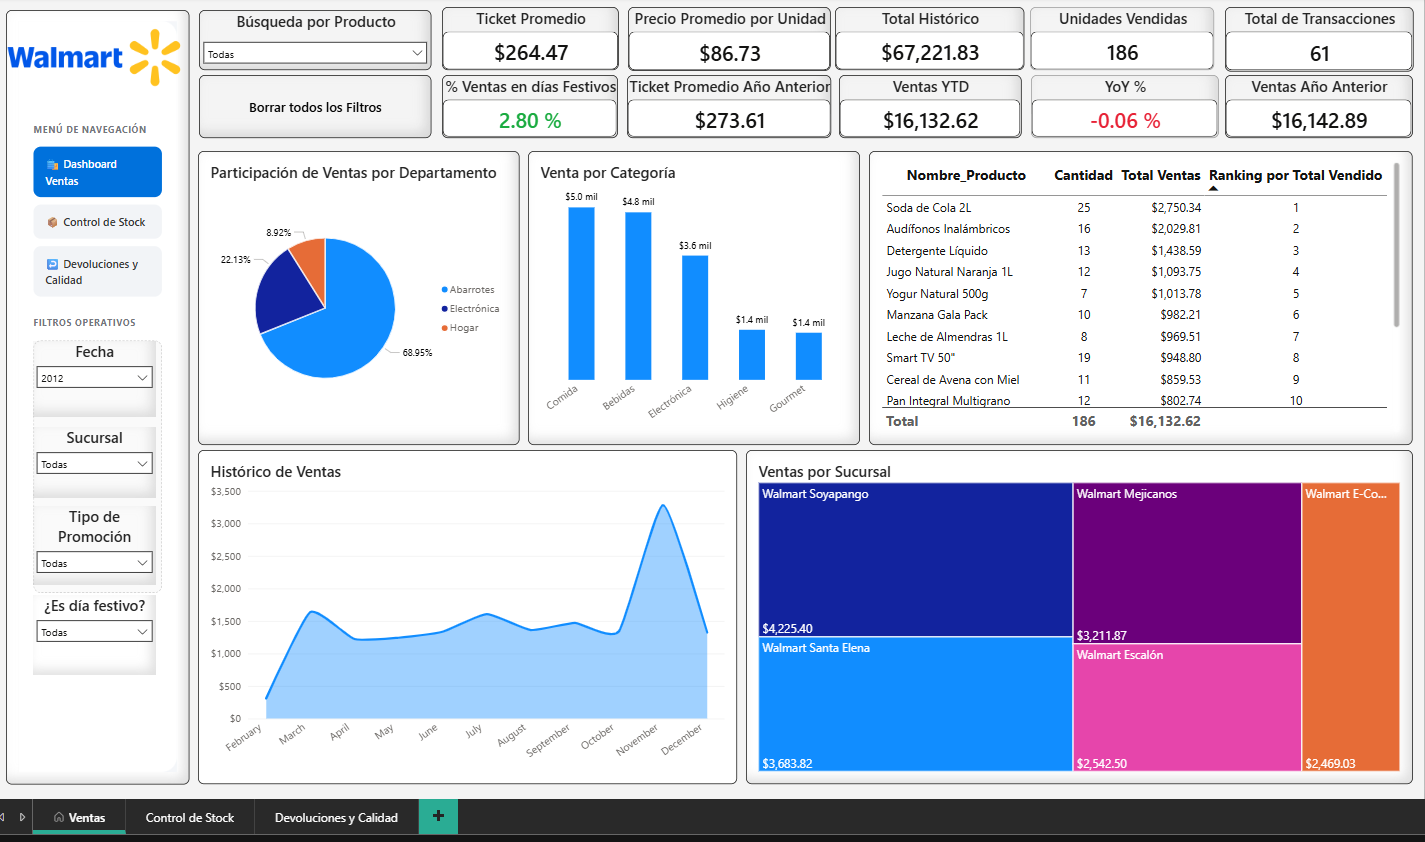

The page's visual inventory and layout, read from the dashboard file:
{"tool":"powerbi","page":{"name":"Ventas","canvas":[1920,1080],"ordinal":0},"visuals":[{"type":"htmlContent443BE3AD55E043BF878BED274D3A6865","fields":{"content":["Medidas.Barra_Lateral_Ventas"]},"box":[10.9,17.2,247,1042.9],"z":0},{"type":"cardVisual","title":"Total de Transacciones","fields":{"Data":["Medidas.Numero de Transacciones"]},"box":[1652.4,13.9,253.7,86.9],"z":1000},{"type":"cardVisual","title":"Unidades Vendidas","fields":{"Data":["Medidas.Total Unidades Vendidas"]},"box":[1390,13.9,248.5,85.1],"z":2000},{"type":"cardVisual","title":"Ticket Promedio","fields":{"Data":["Medidas.Ticket Promedio"]},"box":[597.7,13.9,238,85.1],"z":3000},{"type":"cardVisual","title":"Precio Promedio por Unidad","fields":{"Data":["Medidas.Precio Promedio por Unidad"]},"box":[848.4,13.5,273.4,86.2],"z":4000},{"type":"tableEx","fields":{"Values":["vDim_Productos.Nombre_Producto","Sum(vFact_Ventas.Cantidad)","Medidas.Total Ventas","Medidas.Ranking Productos por Ventas"]},"box":[1172.9,206.8,731.5,396.2],"z":5000},{"type":"columnChart","title":"Venta por Categoría","fields":{"Category":["vDim_Productos.Categoria"],"Y":["Medidas.Total Ventas"]},"box":[714.1,206.8,446.6,396.2],"z":6000},{"type":"pieChart","title":"Participación de Ventas por Departamento","fields":{"Category":["vDim_Departamentos.Nombre_Departamento"],"Y":["Medidas.Total Ventas"]},"box":[269.3,206.8,432.7,396.2],"z":7000},{"type":"lineChart","title":"Histórico de Ventas","fields":{"Category":["vDim_Calendario.Anio Jerarquía.Anio","vDim_Calendario.Anio Jerarquía.Nombre_Mes"],"Y":["Medidas.Total Ventas"]},"box":[269.8,610.6,726.5,449.7],"z":8000},{"type":"treemap","title":"Ventas por Sucursal","fields":{"Group":["vDim_Tiendas.Nombre_Tienda"],"Values":["Medidas.Total Ventas"]},"box":[1006.7,610.6,897.7,449.7],"z":9000},{"type":"actionButton","title":"Ventas","box":[39.8,195.5,190.3,83],"z":10000},{"type":"image","box":[0,13.9,258,135],"z":11000},{"type":"actionButton","title":"Ventas","box":[34.6,278.5,190.3,48.4],"z":12000},{"type":"actionButton","title":"Ventas","box":[34.6,342.5,190.3,65.7],"z":13000},{"type":"slicer","title":"Fecha","fields":{"Values":["vDim_Calendario.Anio","vDim_Calendario.Nombre_Mes"]},"box":[46.9,462.8,165.7,101.6],"z":14000},{"type":"slicer","title":"Sucursal","fields":{"Values":["vDim_Tiendas.Nombre_Tienda"]},"box":[46.9,578.5,165.7,95.4],"z":15000},{"type":"slicer","title":"Tipo de Promoción","fields":{"Values":["vDim_Promociones.Tipo_Promocion"]},"box":[46.9,684.8,165.7,106.3],"z":16000},{"type":"slicer","title":"¿Es día festivo?","fields":{"Values":["vDim_Calendario.Es_Festivo"]},"box":[46.9,805.2,165.7,107.9],"z":17000},{"type":"cardVisual","title":"Ventas Año Anterior","fields":{"Data":["Medidas.Ventas_Año_Anterior_Supr_Inteligente"]},"box":[1651.9,105.5,252.5,84.8],"z":18000},{"type":"cardVisual","title":"YoY %","fields":{"Data":["Medidas.YoY_Porcentaje_Seguro"]},"box":[1390.7,105.5,252.5,84.8],"z":19000},{"type":"cardVisual","title":"Ventas YTD","fields":{"Data":["Medidas.Ventas YTD"]},"box":[1133,105.5,245.6,84.8],"z":20000},{"type":"cardVisual","title":"Ticket Promedio Año Anterior","fields":{"Data":["Medidas.Ticket_Promedio_Año_Anterior_Seguro"]},"box":[847.6,105.5,275,84.8],"z":21000},{"type":"cardVisual","title":"% Ventas en días Festivos","fields":{"Data":["Medidas.Porcentaje_Ventas_Festivos_Seguro"]},"box":[598.5,105.5,237,84.8],"z":22000},{"type":"cardVisual","title":"Total Histórico","fields":{"Data":["Medidas.Ventas_Totales_Historicas"]},"box":[1127.7,13.9,255.4,85.1],"z":23000},{"type":"slicer","title":"Búsqueda por Producto","fields":{"Values":["vDim_Productos.Nombre_Producto"]},"box":[270.1,17.3,313.4,81.4],"z":24000},{"type":"actionButton","box":[270.1,105.6,313.4,84.8],"z":25000}]}

Visuals, with their boxes on the page's 1920x1080 design canvas (x1, y1, x2, y2). These are canvas units, not pixel positions in the 1425x842 screenshot, which may show the page scaled, cropped or inside an application window:
htmlContent443BE3AD55E043BF878BED274D3A6865 - Medidas.Barra_Lateral_Ventas: 11,17,258,1060
"Total de Transacciones" cardVisual: 1652,14,1906,101
"Unidades Vendidas" cardVisual: 1390,14,1638,99
"Ticket Promedio" cardVisual: 598,14,836,99
"Precio Promedio por Unidad" cardVisual: 848,14,1122,100
tableEx - vDim_Productos.Nombre_Producto x Sum(vFact_Ventas.Cantidad): 1173,207,1904,603
"Venta por Categoría" columnChart: 714,207,1161,603
"Participación de Ventas por Departamento" pieChart: 269,207,702,603
"Histórico de Ventas" lineChart: 270,611,996,1060
"Ventas por Sucursal" treemap: 1007,611,1904,1060
"Ventas" actionButton: 40,196,230,278
image: 0,14,258,149
"Ventas" actionButton: 35,278,225,327
"Ventas" actionButton: 35,342,225,408
"Fecha" slicer: 47,463,213,564
"Sucursal" slicer: 47,578,213,674
"Tipo de Promoción" slicer: 47,685,213,791
"¿Es día festivo?" slicer: 47,805,213,913
"Ventas Año Anterior" cardVisual: 1652,106,1904,190
"YoY %" cardVisual: 1391,106,1643,190
"Ventas YTD" cardVisual: 1133,106,1379,190
"Ticket Promedio Año Anterior" cardVisual: 848,106,1123,190
"% Ventas en días Festivos" cardVisual: 598,106,836,190
"Total Histórico" cardVisual: 1128,14,1383,99
"Búsqueda por Producto" slicer: 270,17,584,99
actionButton: 270,106,584,190
